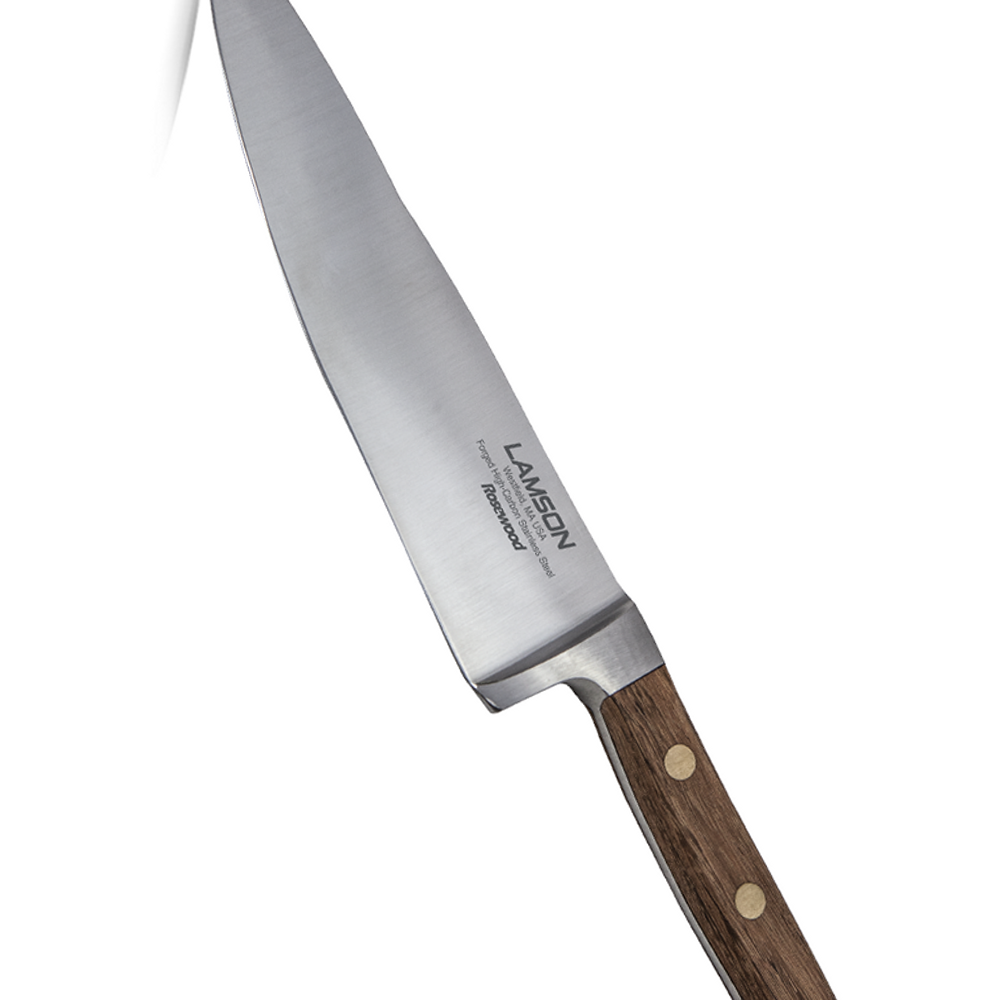knife: (205, 1, 837, 1000)
